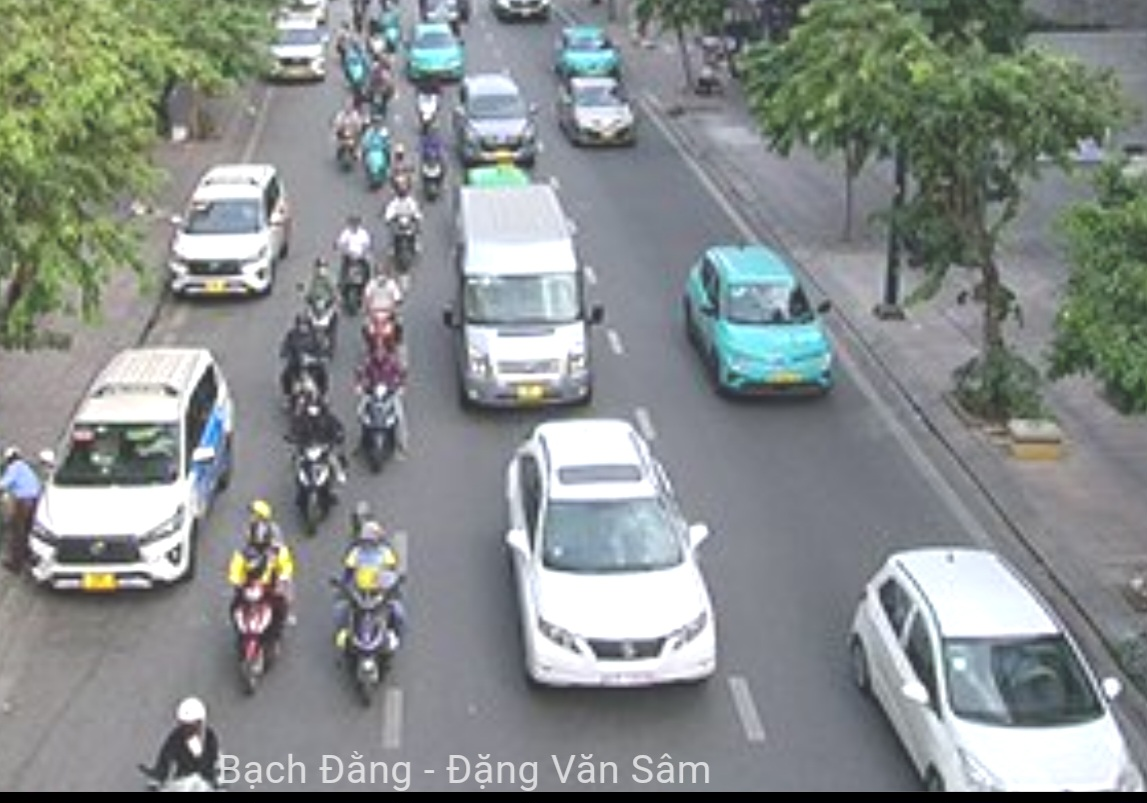car: (852, 548, 1144, 803), (507, 431, 723, 690), (20, 346, 234, 604), (443, 181, 596, 406), (678, 248, 840, 407), (167, 162, 292, 310), (456, 76, 539, 164), (555, 77, 637, 147), (262, 18, 329, 84), (400, 21, 466, 82), (553, 26, 624, 76)
